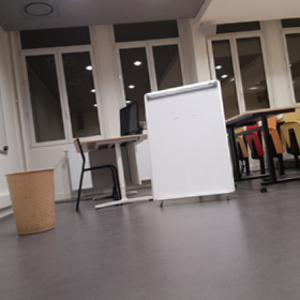big: (144, 81, 235, 202)
medium: (11, 167, 56, 236)
